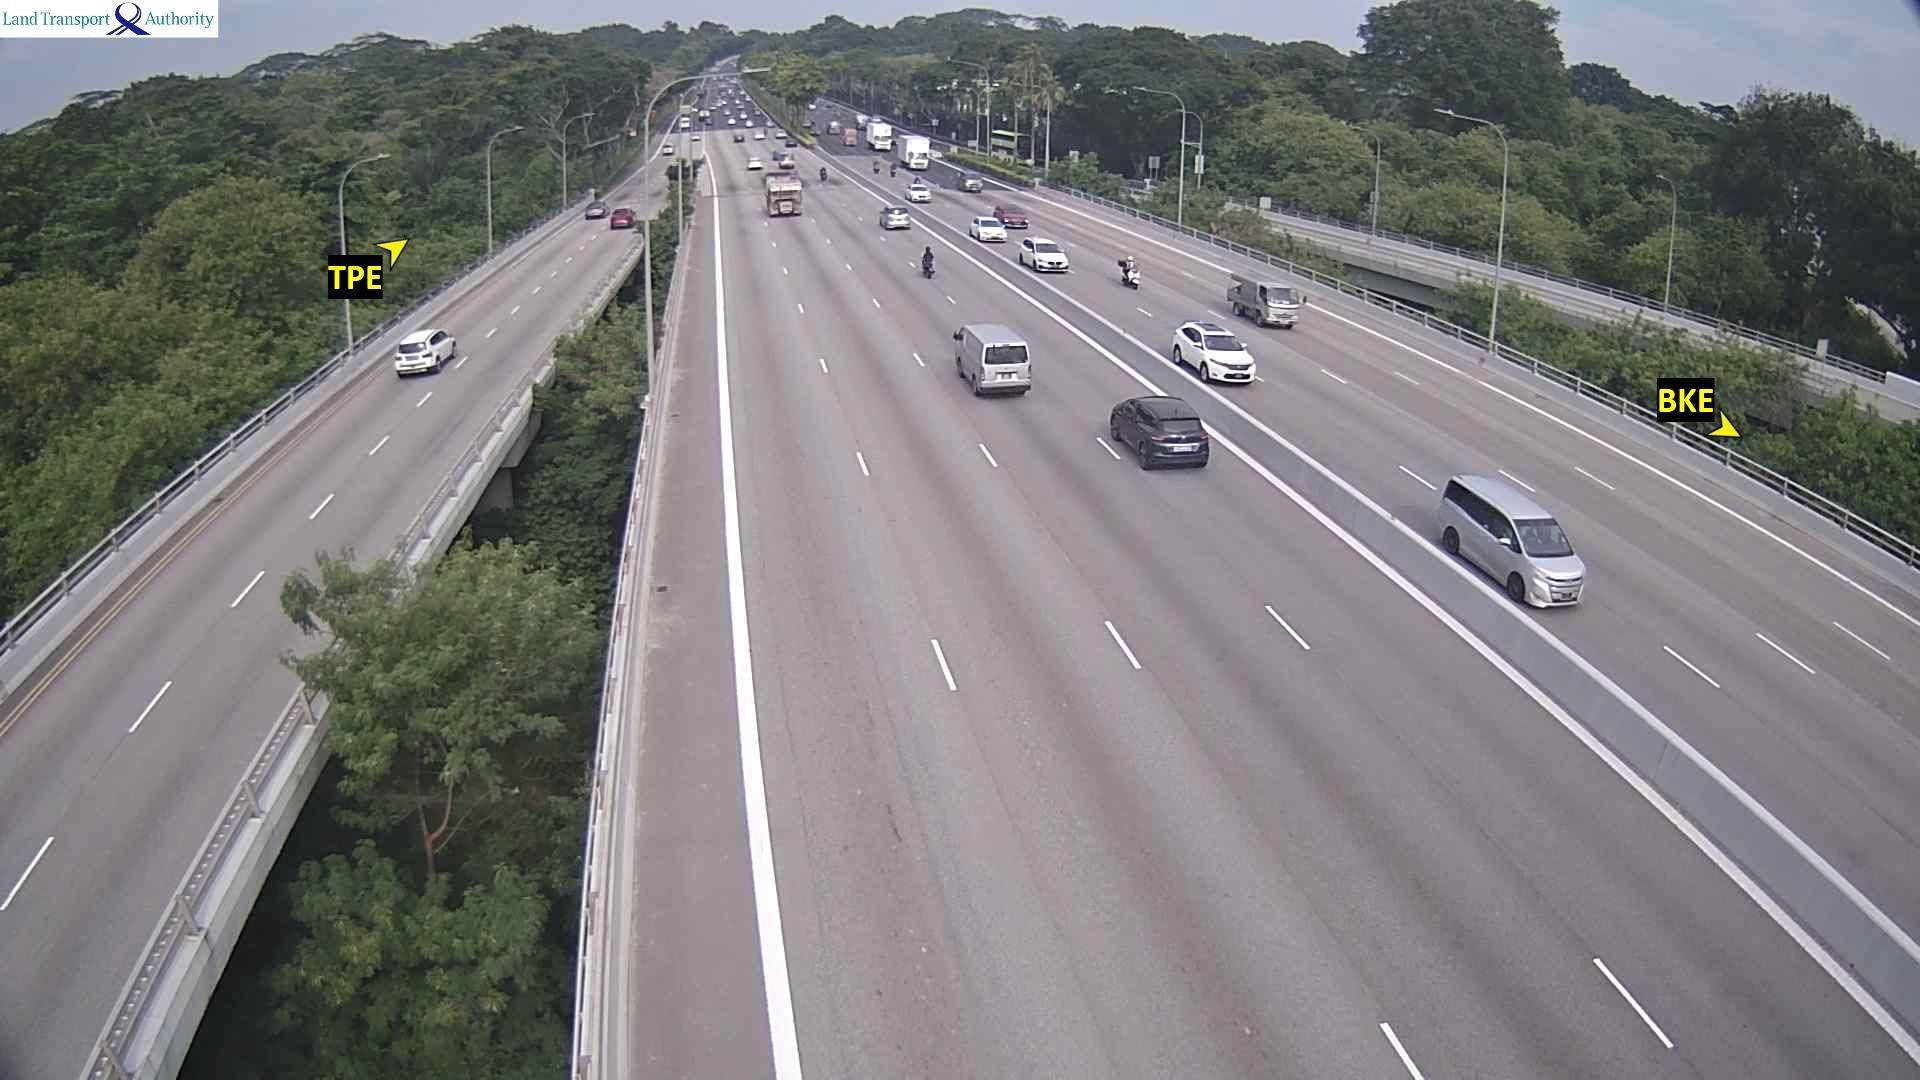cars: (1436, 473, 1585, 608), (1109, 394, 1209, 469), (952, 322, 1031, 396), (1170, 319, 1255, 384), (1226, 279, 1304, 329), (392, 327, 456, 376), (1018, 236, 1069, 272), (968, 214, 1008, 242), (992, 203, 1029, 228), (878, 205, 910, 229), (903, 179, 931, 203), (609, 206, 635, 228), (584, 199, 607, 219), (773, 150, 795, 168), (961, 174, 982, 191), (697, 107, 712, 124), (746, 156, 763, 170), (827, 119, 841, 134), (678, 115, 691, 130), (752, 128, 765, 141), (660, 142, 674, 154), (732, 132, 744, 142)
motorcycle: (1117, 257, 1140, 288), (817, 162, 830, 182), (921, 260, 935, 278), (886, 160, 898, 176), (873, 159, 880, 174)
trucks: (764, 173, 803, 216), (899, 134, 930, 169), (869, 122, 892, 150)
